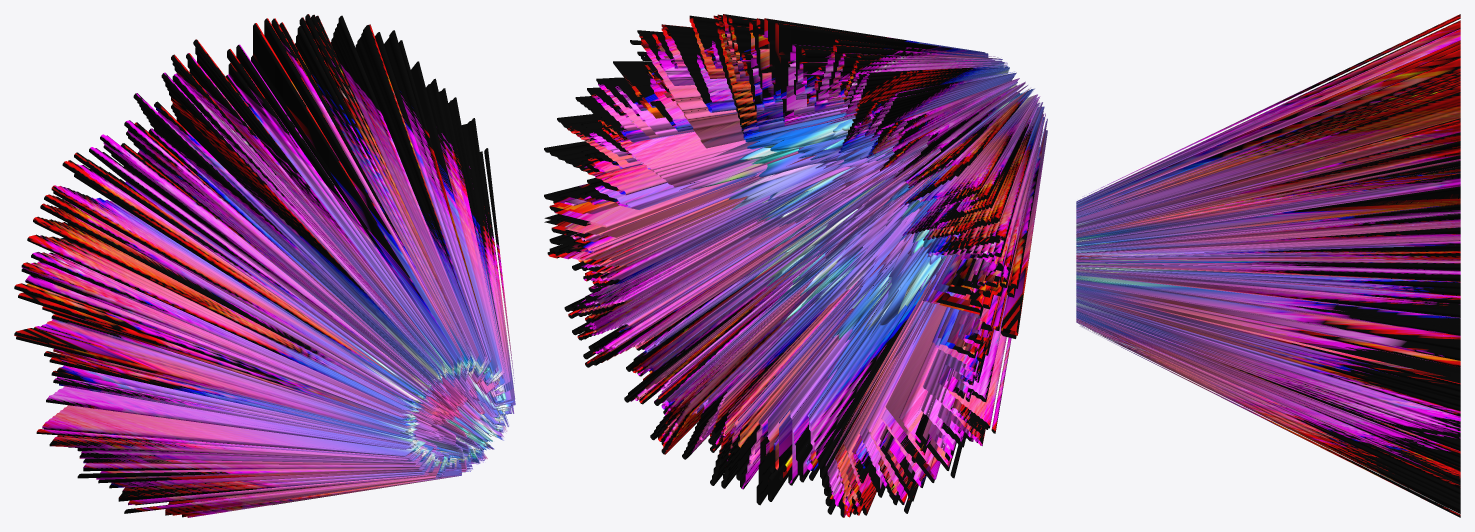
The model's file is COLORED-firework-solid.gltf.
The picture shows the model from 3 angles, left to right: view 1: azimuth 30°, elevation 25°; view 2: azimuth 150°, elevation 25°; view 3: azimuth 270°, elevation 25°; orthographic projection. The views are drawn at different scales.
Parts seen in each view (by area): view 1: firework-solid; view 2: firework-solid; view 3: firework-solid.
Boxes of the visible parts, left/top/right/bottom form: firework-solid: left=14, top=14, right=515, bottom=517; firework-solid: left=544, top=14, right=1047, bottom=517; firework-solid: left=1076, top=14, right=1460, bottom=517.
Size of the model in its own units: 19.84 by 19.53 by 15.
Materials: 1 (1 with a texture image).
